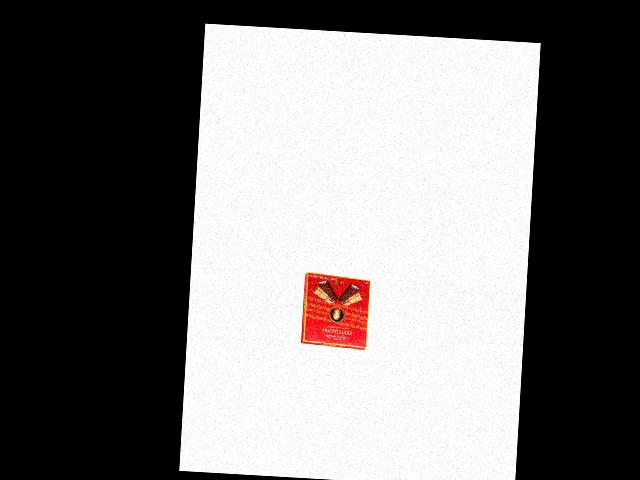chocolate: (300, 269, 372, 348)
